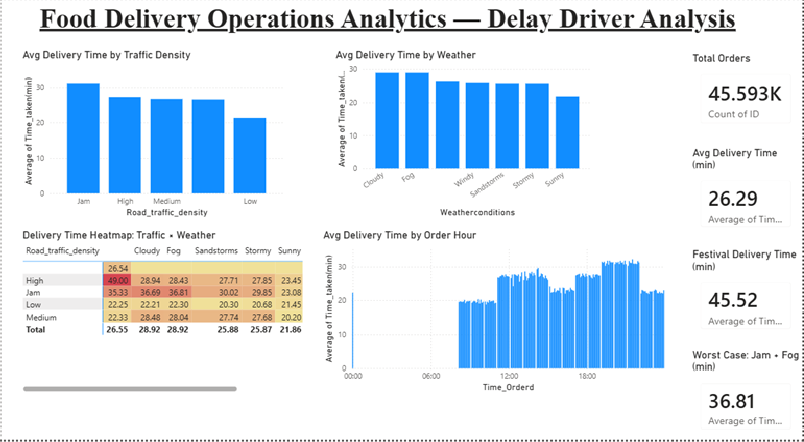

The dashboard page shown, as its layout file describes it:
{"tool":"powerbi","page":{"name":"Page 1","canvas":[1280,720],"ordinal":0},"visuals":[{"type":"cardVisual","title":"Total Orders","fields":{"Data":["CountNonNull(delivery_final_clean.ID)"]},"box":[1099.8,85.7,179.6,134.7],"z":0},{"type":"cardVisual","title":"Avg Delivery Time (min)","fields":{"Data":["Avg(delivery_final_clean.Time_taken(min))"]},"box":[1099.8,240.8,179.6,148.9],"z":1},{"type":"cardVisual","title":"Festival Delivery Time (min)","fields":{"Data":["Avg(delivery_final_clean.Time_taken(min))"]},"box":[1099.8,406,179.6,148.9],"z":2},{"type":"cardVisual","title":"Worst Case: Jam + Fog (min)","fields":{"Data":["Avg(delivery_final_clean.Time_taken(min))"]},"box":[1099.8,571.3,179.6,148.9],"z":3},{"type":"clusteredColumnChart","title":"Avg Delivery Time by Traffic Density","fields":{"Category":["delivery_final_clean.Road_traffic_density"],"Y":["Avg(delivery_final_clean.Time_taken(min))"]},"box":[30.6,79.6,426.4,279.5],"z":4},{"type":"clusteredColumnChart","title":"Avg Delivery Time by Weather","fields":{"Category":["delivery_final_clean.Weatherconditions"],"Y":["Avg(delivery_final_clean.Time_taken(min))"]},"box":[530.5,79.6,418.3,279.5],"z":5},{"type":"pivotTable","title":"Delivery Time Heatmap: Traffic × Weather","fields":{"Rows":["delivery_final_clean.Road_traffic_density"],"Values":["Avg(delivery_final_clean.Time_taken(min))"],"Columns":["delivery_final_clean.Weatherconditions"]},"box":[30.6,375.4,457,271.4],"z":6},{"type":"clusteredColumnChart","title":"Avg Delivery Time by Order Hour","fields":{"Category":["delivery_final_clean.Time_Orderd"],"Y":["Avg(delivery_final_clean.Time_taken(min))"]},"box":[510.1,375.4,569.3,271.4],"z":7},{"type":"textbox","box":[14.3,0,1205.9,77.5],"z":8}]}

Visuals, with their boxes in screenshot pixels (x1, y1, x2, y2), scaled from the page's 1280x720 canvas onto the 804x442 screenshot:
"Total Orders" cardVisual: <box>691,53,803,135</box>
"Avg Delivery Time (min)" cardVisual: <box>691,148,803,239</box>
"Festival Delivery Time (min)" cardVisual: <box>691,249,803,341</box>
"Worst Case: Jam + Fog (min)" cardVisual: <box>691,351,803,441</box>
"Avg Delivery Time by Traffic Density" clusteredColumnChart: <box>19,49,287,220</box>
"Avg Delivery Time by Weather" clusteredColumnChart: <box>333,49,596,220</box>
"Delivery Time Heatmap: Traffic × Weather" pivotTable: <box>19,230,306,397</box>
"Avg Delivery Time by Order Hour" clusteredColumnChart: <box>320,230,678,397</box>
textbox: <box>9,0,766,48</box>
